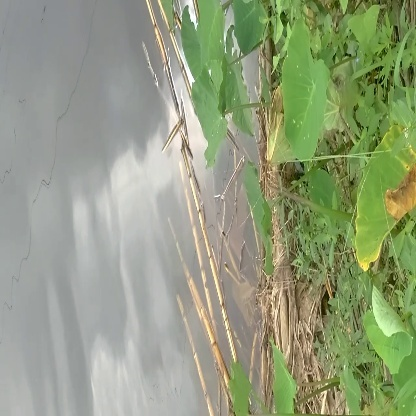branch: (165, 139, 240, 357)
